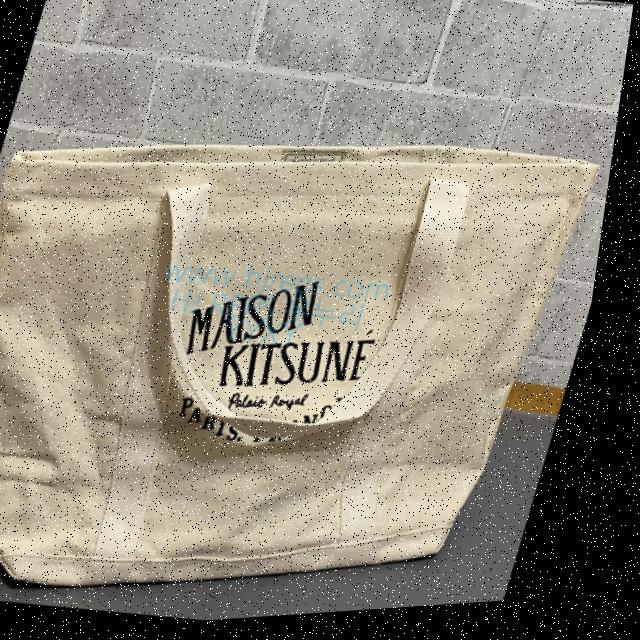ecobag: (0, 88, 626, 640)
